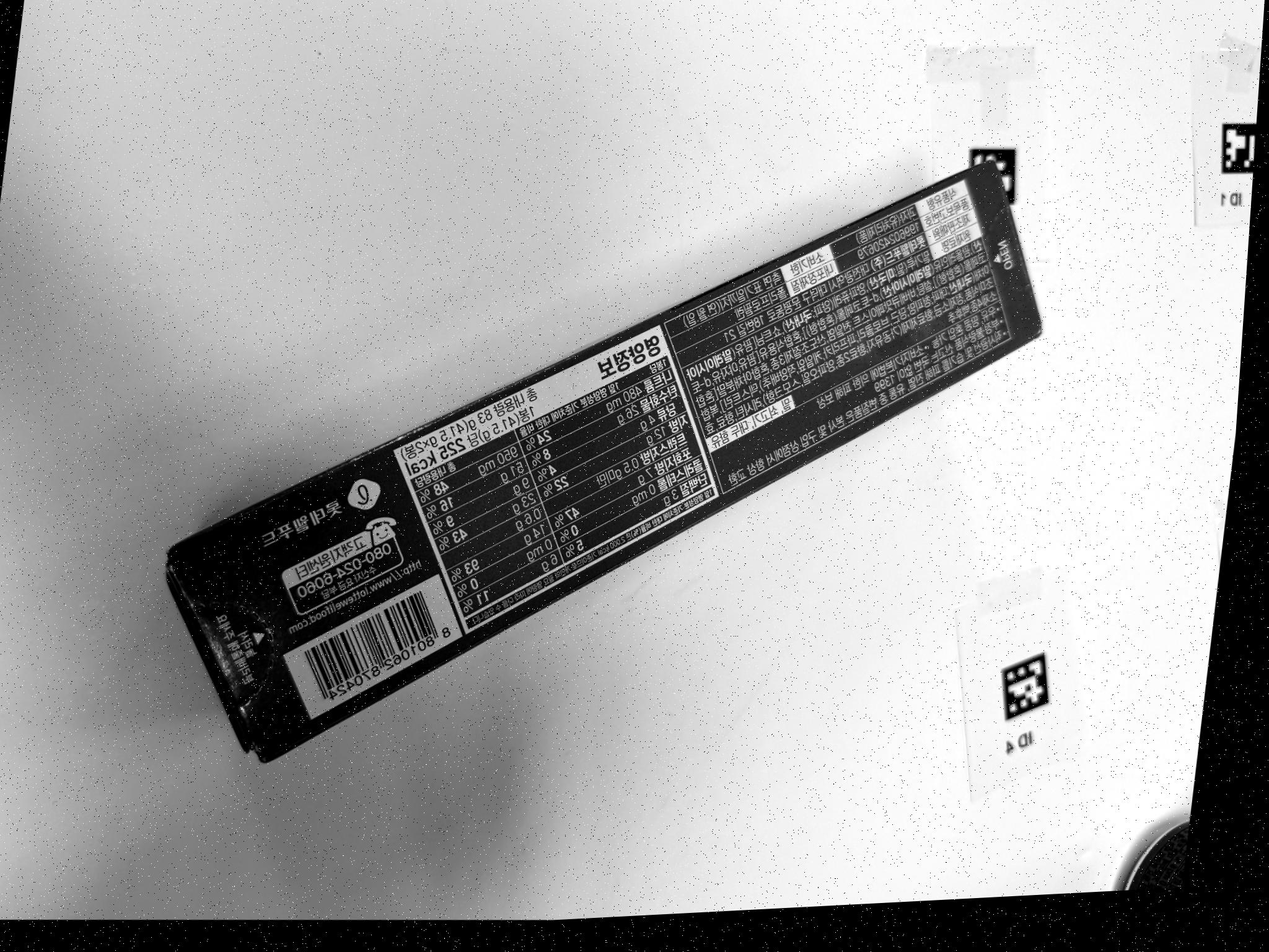cracker_vege: (167, 162, 1041, 757)
